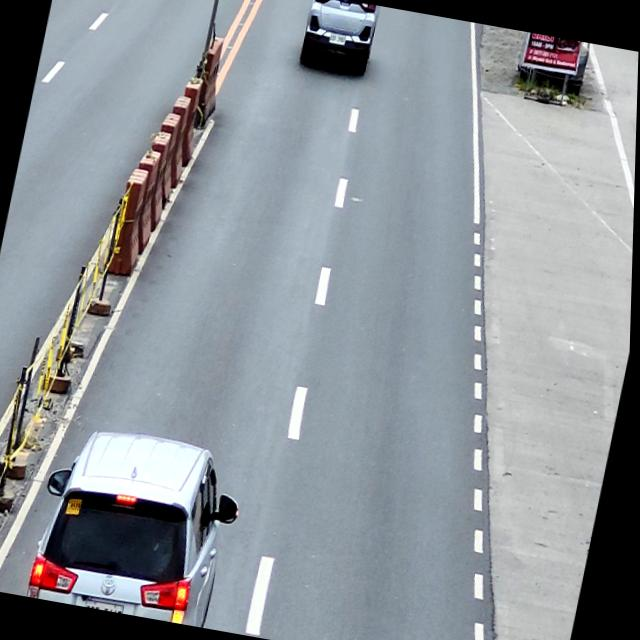Car: (25, 420, 253, 630), (298, 0, 379, 76)
License-Plate: (88, 598, 129, 614), (327, 32, 347, 46)
